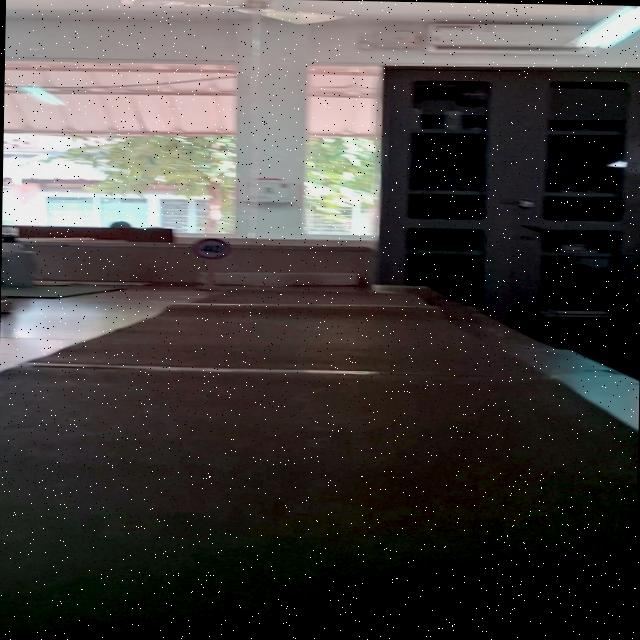Speed40: (190, 236, 233, 260)
